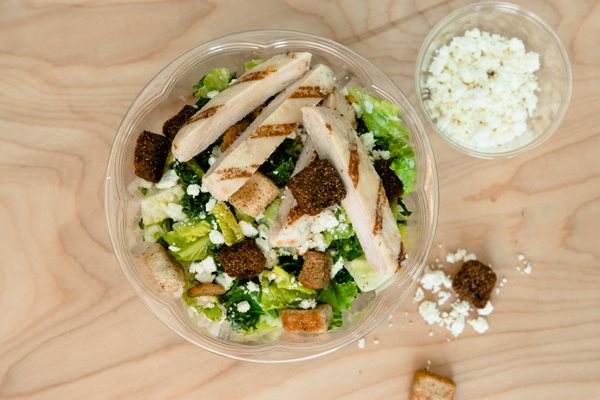sushi: (102, 22, 496, 366), (415, 2, 574, 159)
